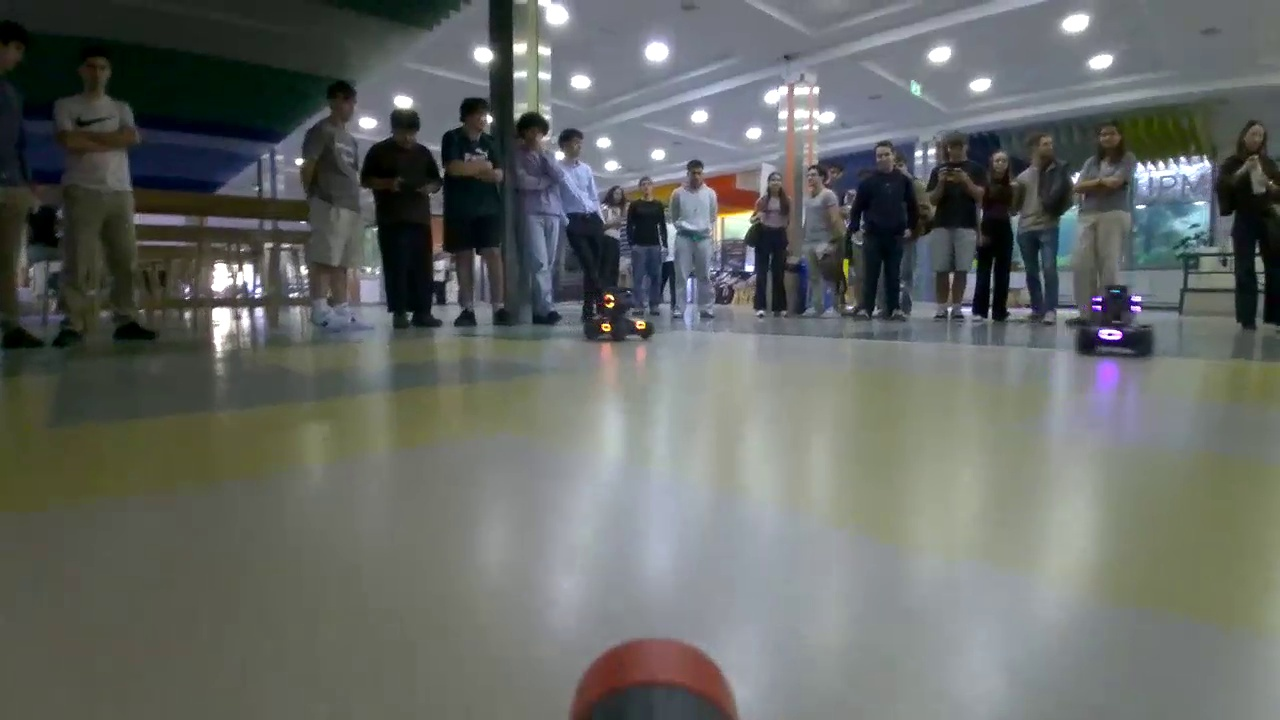robot: (1072, 284, 1160, 358), (582, 286, 656, 340)
